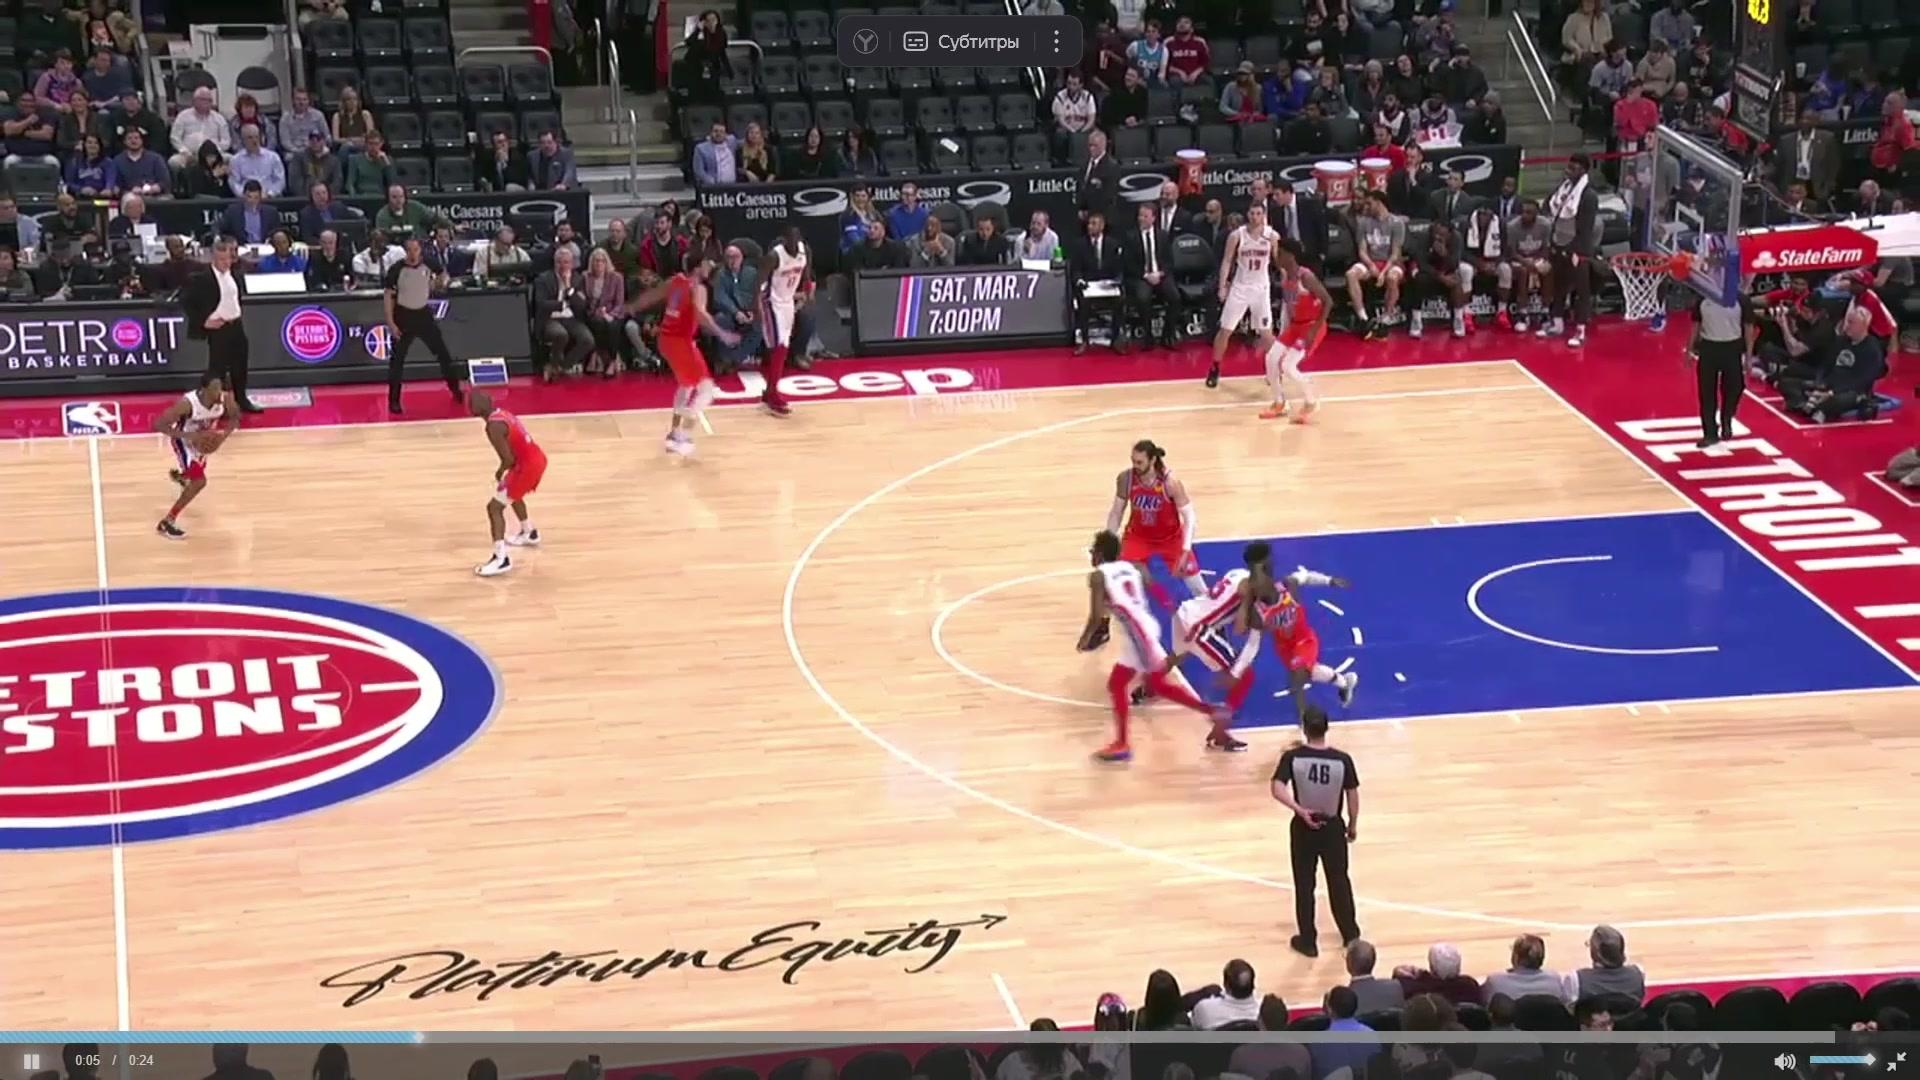foul: (1168, 536, 1380, 757)
